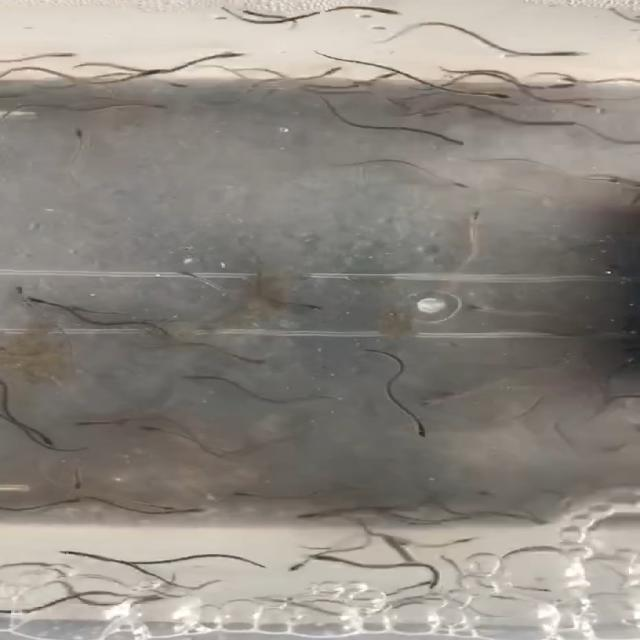active_glass_eel: (298, 550, 360, 568), (460, 87, 516, 105), (52, 543, 98, 560), (127, 68, 166, 88), (366, 6, 418, 21), (75, 416, 118, 434), (518, 78, 572, 92), (277, 558, 324, 574), (298, 506, 341, 522), (32, 431, 64, 452), (125, 592, 166, 608), (180, 504, 215, 522), (416, 394, 451, 411), (134, 502, 183, 514), (460, 209, 484, 232), (39, 49, 81, 62), (212, 50, 251, 64), (223, 489, 265, 502), (546, 49, 591, 61), (172, 265, 200, 284), (454, 303, 494, 316), (442, 176, 474, 192), (312, 65, 346, 80), (7, 279, 30, 301), (130, 422, 172, 434), (451, 535, 487, 549), (63, 472, 85, 494), (181, 371, 211, 387), (592, 172, 626, 186), (27, 295, 61, 309), (404, 420, 429, 438), (63, 303, 87, 321), (370, 71, 398, 86), (568, 96, 598, 110), (240, 356, 270, 370), (441, 135, 472, 148), (55, 496, 88, 508), (144, 100, 174, 112), (166, 78, 190, 91), (69, 126, 87, 143)
